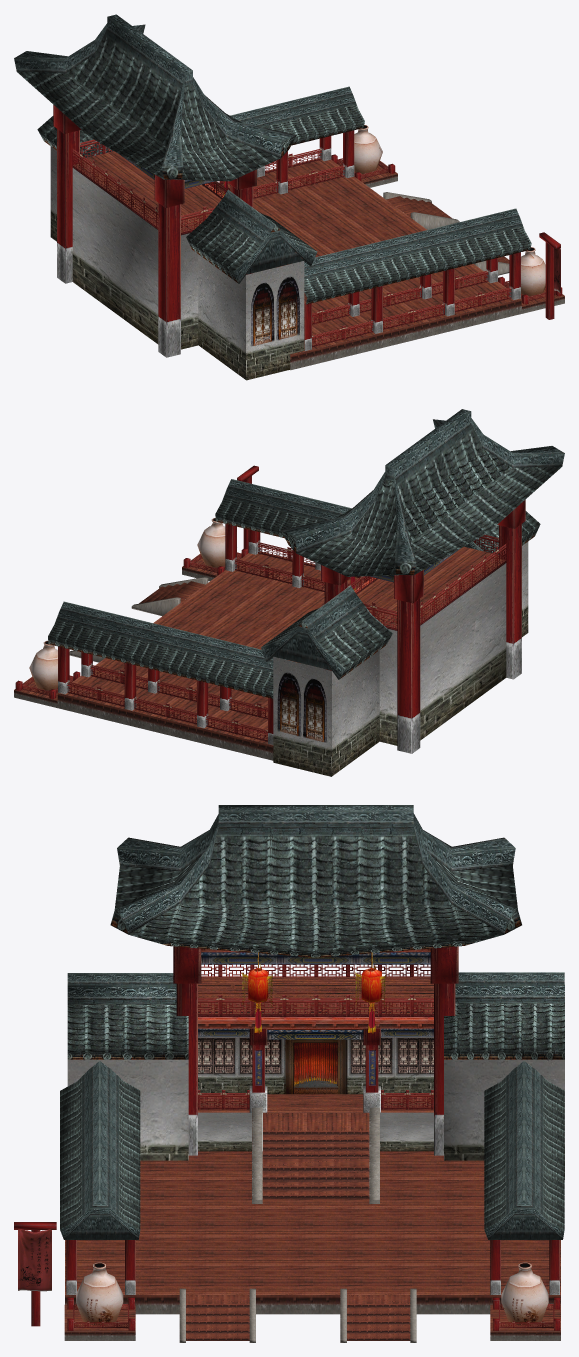
File: cj_resta03.glb
The picture shows the model from 3 angles, top to bottom: view 1: azimuth 30°, elevation 25°; view 2: azimuth 150°, elevation 25°; view 3: azimuth 270°, elevation 25°; orthographic projection. The views are drawn at different scales.
Visible parts, largest first — view 1: CJ_resta03_roof, CJ_resta03_wall01, CJ_resta03_floor, CJ_resta03_gidung, CJ_resta03_fence, CJ_resta03_sidewal, CJ_resta03_liquor, CJ_resta03_sign, CJ_resta03_stair; view 2: CJ_resta03_roof, CJ_resta03_wall01, CJ_resta03_floor, CJ_resta03_gidung, CJ_resta03_fence, CJ_resta03_sidewal, CJ_resta03_liquor, CJ_resta03_stair; view 3: CJ_resta03_roof, CJ_resta03_floor, CJ_resta03_wall01, CJ_resta03_gidung, CJ_resta03_stair, CJ_resta03_sidewal, CJ_resta03_fence, CJ_resta03_liquor, CJ_resta03_sign, CJ_resta03_light02.
Part boxes in pixels (x1=…): CJ_resta03_roof: x1=14, y1=14, x2=531, y2=304; CJ_resta03_wall01: x1=50, y1=146, x2=304, y2=380; CJ_resta03_floor: x1=73, y1=151, x2=564, y2=354; CJ_resta03_gidung: x1=53, y1=105, x2=562, y2=357; CJ_resta03_fence: x1=72, y1=139, x2=555, y2=346; CJ_resta03_sidewal: x1=254, y1=173, x2=564, y2=370; CJ_resta03_liquor: x1=354, y1=125, x2=545, y2=296; CJ_resta03_sign: x1=539, y1=232, x2=560, y2=319; CJ_resta03_stair: x1=276, y1=196, x2=509, y2=267; CJ_resta03_roof: x1=48, y1=409, x2=564, y2=698; CJ_resta03_wall01: x1=273, y1=541, x2=528, y2=776; CJ_resta03_floor: x1=14, y1=546, x2=504, y2=745; CJ_resta03_gidung: x1=15, y1=500, x2=525, y2=753; CJ_resta03_fence: x1=22, y1=534, x2=506, y2=741; CJ_resta03_sidewal: x1=14, y1=567, x2=323, y2=760; CJ_resta03_liquor: x1=29, y1=518, x2=225, y2=690; CJ_resta03_stair: x1=139, y1=581, x2=204, y2=603; CJ_resta03_roof: x1=60, y1=805, x2=564, y2=1239; CJ_resta03_floor: x1=64, y1=977, x2=560, y2=1331; CJ_resta03_wall01: x1=67, y1=1036, x2=564, y2=1179; CJ_resta03_gidung: x1=66, y1=946, x2=560, y2=1330; CJ_resta03_stair: x1=186, y1=1112, x2=410, y2=1340; CJ_resta03_sidewal: x1=64, y1=1107, x2=560, y2=1342; CJ_resta03_fence: x1=73, y1=964, x2=554, y2=1327; CJ_resta03_liquor: x1=76, y1=1262, x2=548, y2=1325; CJ_resta03_sign: x1=14, y1=1222, x2=56, y2=1326; CJ_resta03_light02: x1=242, y1=952, x2=385, y2=1033.
Bounding box in the file's own units: 26.35 × 17.51 × 25.91.
10 materials, 10 textured.
